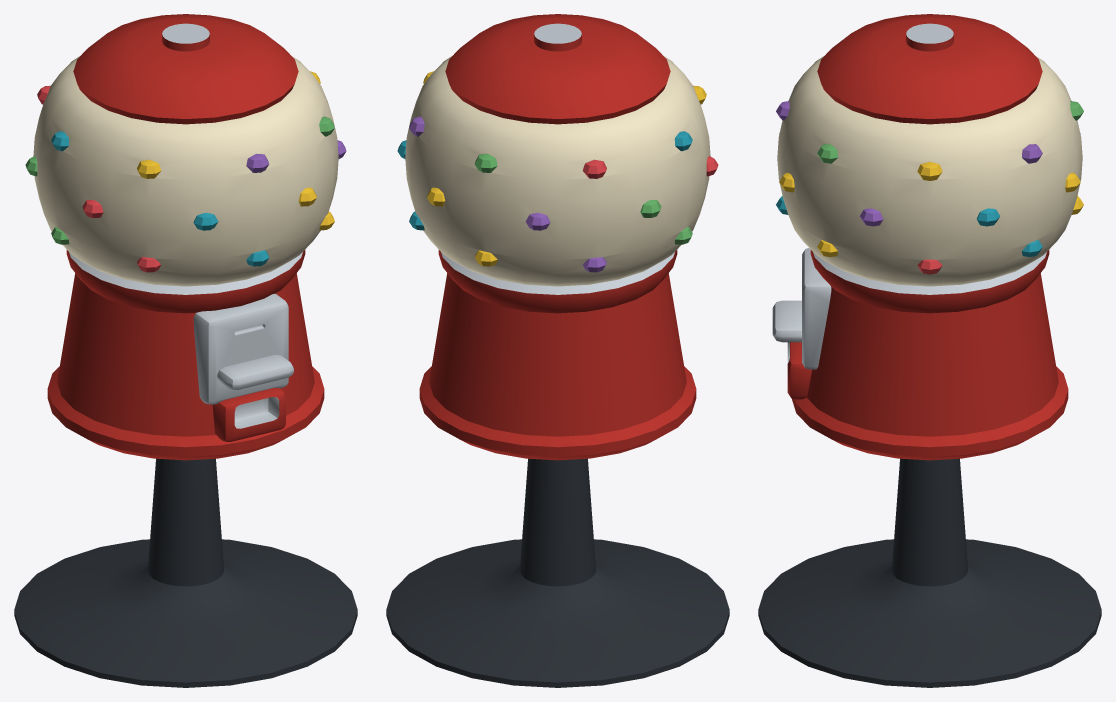
The model's file is NEW_RECOVERY_118_LOD2.fbx.
3 views of the same model, side by side, from view 1: azimuth 30°, elevation 25°; view 2: azimuth 150°, elevation 25°; view 3: azimuth 270°, elevation 25° (orthographic).
Visible parts, largest first — view 1: Gumball_machine; view 2: Gumball_machine; view 3: Gumball_machine.
Boxes of the visible parts, x1=… form: Gumball_machine: x1=14, y1=14, x2=357, y2=687; Gumball_machine: x1=386, y1=14, x2=729, y2=687; Gumball_machine: x1=758, y1=14, x2=1101, y2=687.
Size of the model in its own units: 48.6 by 48.6 by 91.55.
